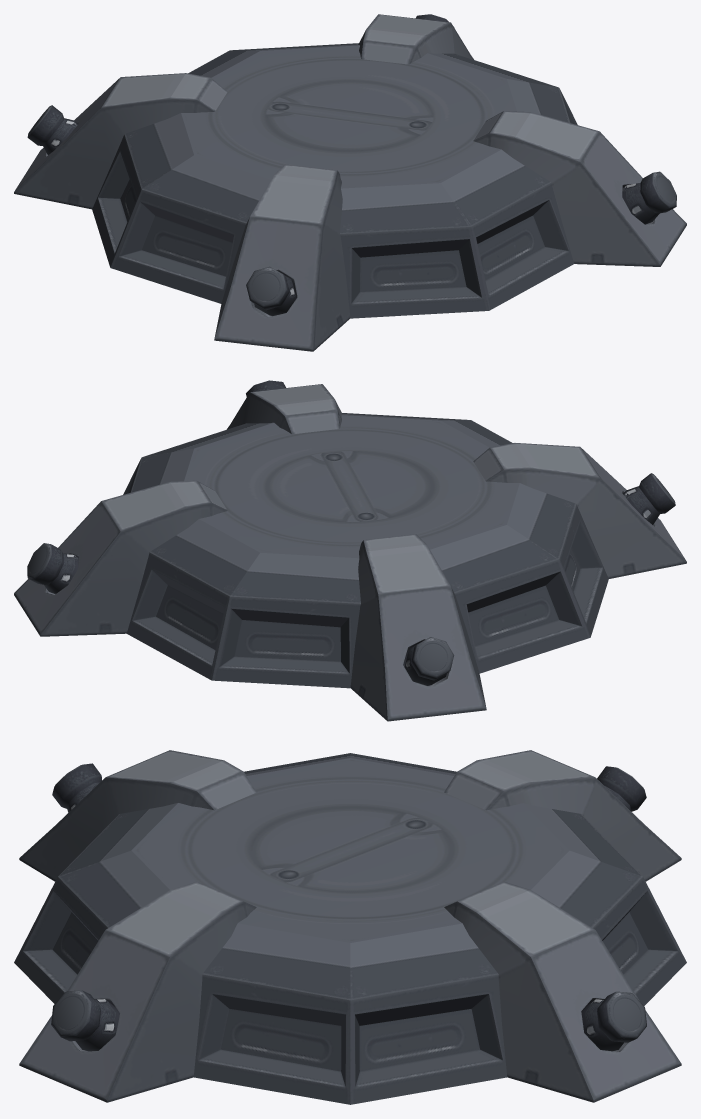
File: Gun_Base_01.FBX
The picture shows the model from 3 angles, top to bottom: view 1: azimuth 30°, elevation 25°; view 2: azimuth 150°, elevation 25°; view 3: azimuth 270°, elevation 25°; orthographic projection. The views are drawn at different scales.
Visible parts, largest first — view 1: Gun_Base_01; view 2: Gun_Base_01; view 3: Gun_Base_01.
Part boxes in pixels (x1=…): Gun_Base_01: x1=14, y1=14, x2=686, y2=351; Gun_Base_01: x1=14, y1=380, x2=686, y2=721; Gun_Base_01: x1=14, y1=750, x2=686, y2=1104.
Size of the model in its own units: 3.3 by 0.6835 by 3.3.
1 material, 1 textured.
